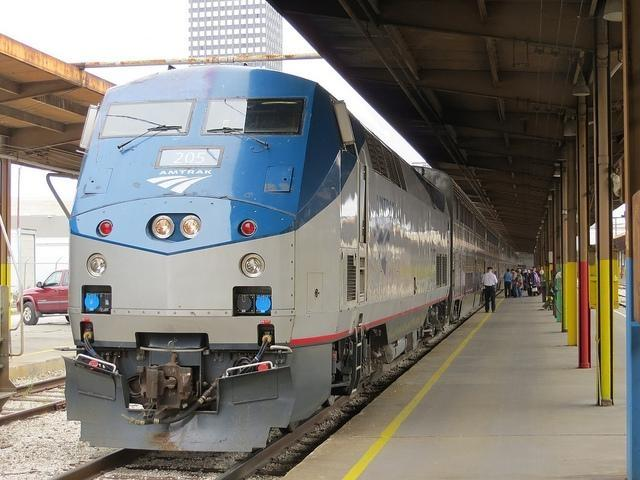truck: (21, 271, 70, 323)
